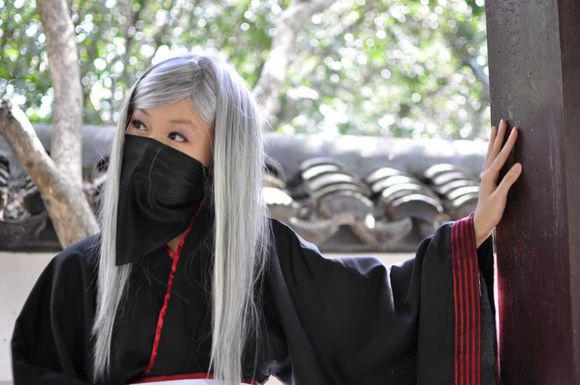OK: (116, 106, 211, 201)
